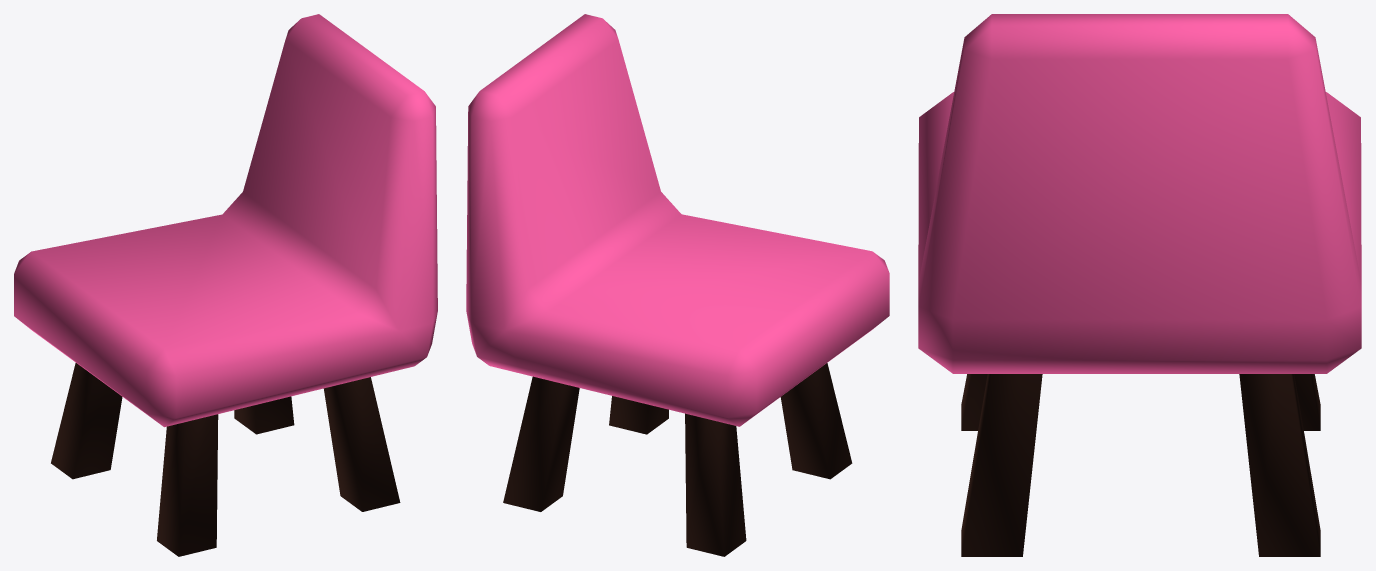
The model's file is Chair_01.fbx.
3 renders of one model, left to right at view 1: azimuth 30°, elevation 25°; view 2: azimuth 150°, elevation 25°; view 3: azimuth 270°, elevation 25°, orthographic. The views are drawn at different scales.
Parts seen in each view (by area): view 1: Chair_01; view 2: Chair_01; view 3: Chair_01.
Part boxes in pixels (x1,y1,x2,y2): Chair_01: (14,14,437,556); Chair_01: (466,14,889,556); Chair_01: (918,14,1361,556).
Size of the model in its own units: 37.64 by 46.94 by 33.98.
